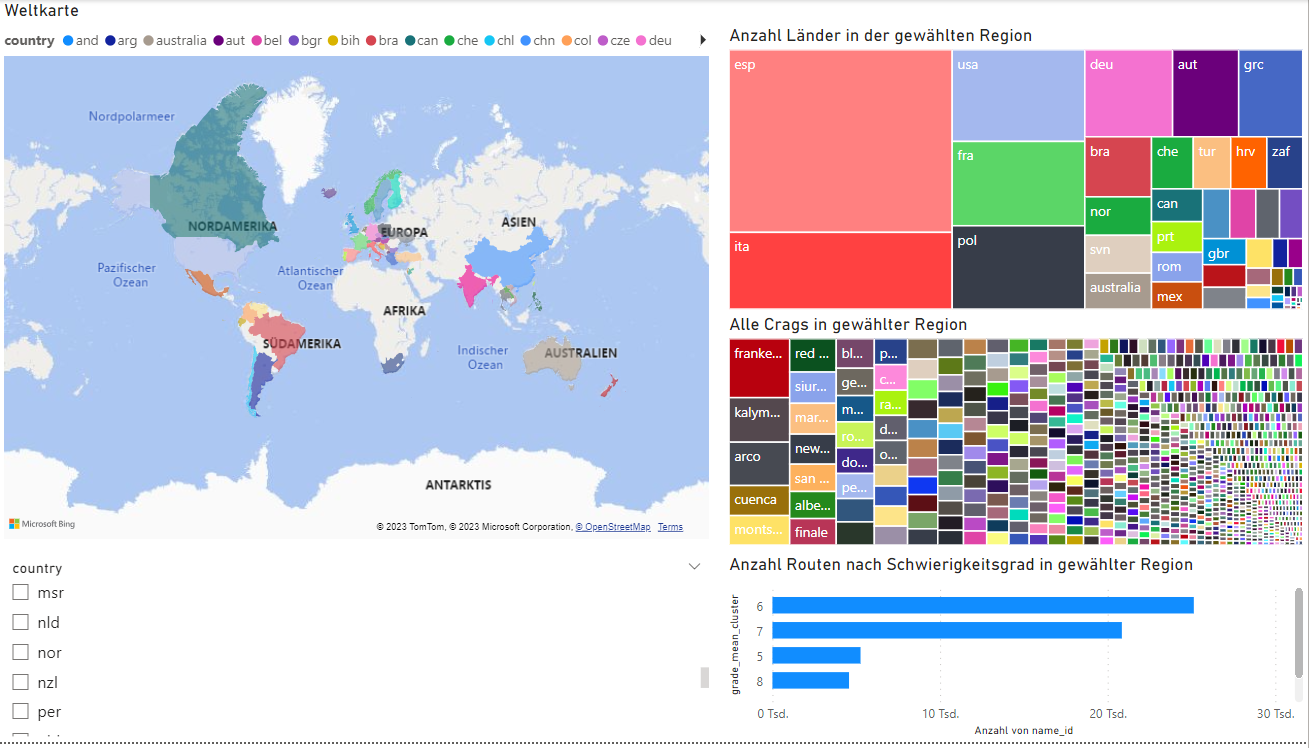

What the dashboard file says about the page in this screenshot:
{"tool":"powerbi","page":{"name":"routen","canvas":[1280,720],"ordinal":1},"visuals":[{"type":"filledMap","title":"Weltkarte","fields":{"Category":["routes_rated.country"],"Series":["routes_rated.country"]},"box":[9.7,0,693.9,527.7],"z":0},{"type":"treemap","title":"Anzahl Routen in den Länder im gewählten Kontinent","fields":{"Group":["routes_rated.country"],"Values":["CountNonNull(routes_rated.name_id)"]},"box":[713.4,24.3,566.6,280.9],"z":1000},{"type":"treemap","title":"Alle Crags in gewählter Region","fields":{"Group":["routes_rated.crag"],"Values":["CountNonNull(routes_rated.name_id)"]},"box":[713.4,305.2,566.6,229.4],"z":2000},{"type":"slicer","fields":{"Values":["routes_rated.country"]},"box":[10,538,694,182],"z":3000},{"type":"clusteredBarChart","title":"Anzahl Routen nach Schwierigkeitsgrad in gewählter Region","fields":{"Category":["routes_rated.grade_mean_cluster"],"Y":["CountNonNull(routes_rated.name_id)"]},"box":[713,538,567,182],"z":3001}]}

Visuals, with their boxes in screenshot pixels (x1, y1, x2, y2), scaled from the page's 1280x720 canvas onto the 1309x748 screenshot:
"Weltkarte" filledMap: detection(10, 0, 720, 548)
"Anzahl Routen in den Länder im gewählten Kontinent" treemap: detection(730, 25, 1308, 317)
"Alle Crags in gewählter Region" treemap: detection(730, 317, 1308, 555)
slicer - routes_rated.country: detection(10, 559, 720, 747)
"Anzahl Routen nach Schwierigkeitsgrad in gewählter Region" clusteredBarChart: detection(729, 559, 1308, 747)
